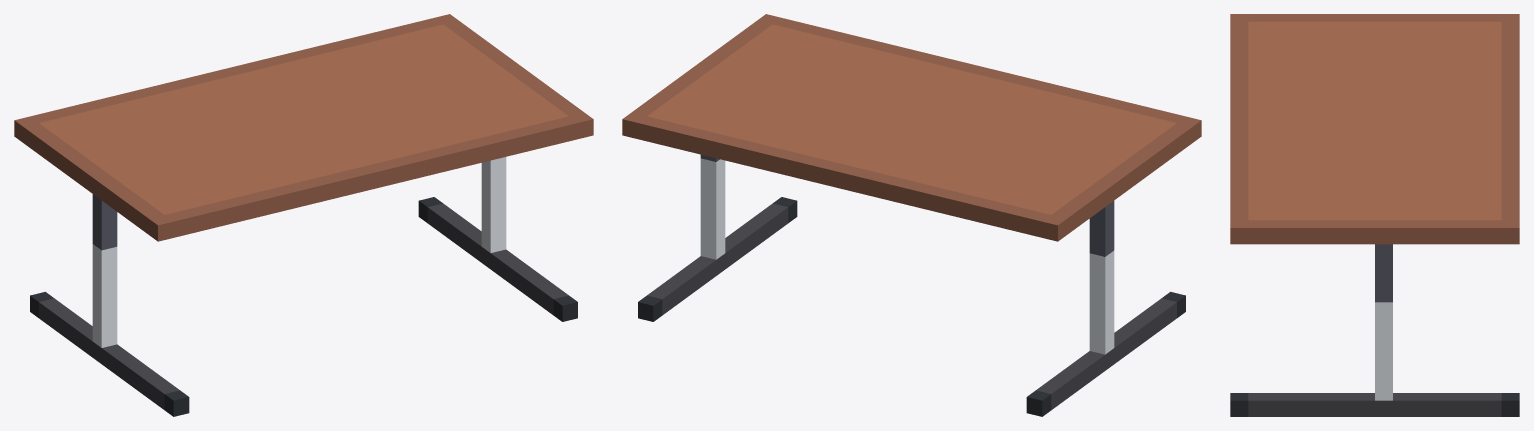
The model's file is small-table.obj.
3 renders of one model, left to right at view 1: azimuth 30°, elevation 25°; view 2: azimuth 150°, elevation 25°; view 3: azimuth 270°, elevation 25°, orthographic.
Size of the model in its own units: 2.8 by 1.2 by 1.6.
1 material, 1 textured.
